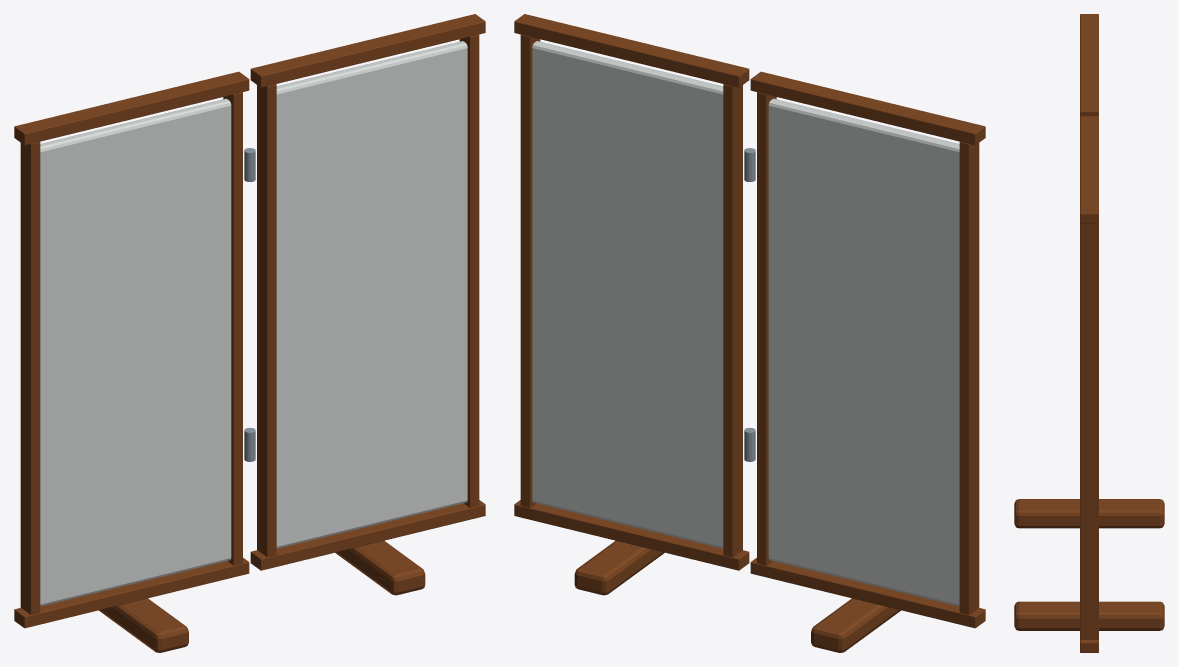
The picture shows the model from 3 angles, left to right: view 1: azimuth 30°, elevation 25°; view 2: azimuth 150°, elevation 25°; view 3: azimuth 270°, elevation 25°; orthographic projection. The views are drawn at different scales.
Parts seen in each view (by area): view 1: PANEL_Fabric.001, PANEL_Fabric, FRAME_Stile, FRAME_Stile.002, FRAME_Stile.003, FRAME_Stile.001, FRAME_Rail.003, FRAME_Rail.001, FRAME_Rail.002, FRAME_Rail, FOOT.001, FOOT; view 2: PANEL_Fabric.001, PANEL_Fabric, FRAME_Stile, FRAME_Stile.002, FRAME_Stile.003, FRAME_Stile.001, FRAME_Rail.003, FRAME_Rail.001, FRAME_Rail.002, FRAME_Rail, FOOT.001, FOOT; view 3: FRAME_Stile.003, FOOT, FOOT.001, FRAME_Rail.003, FRAME_Rail.001, FRAME_Rail.002.
Boxes of the visible parts, box(x1,y1,x2,y2) form: PANEL_Fabric.001: box(276, 41, 467, 548); PANEL_Fabric: box(40, 98, 231, 606); FRAME_Stile: box(20, 141, 40, 614); FRAME_Stile.002: box(257, 84, 276, 557); FRAME_Stile.003: box(459, 34, 479, 507); FRAME_Stile.001: box(223, 92, 242, 565); FRAME_Rail.003: box(250, 14, 485, 87); FRAME_Rail.001: box(14, 71, 249, 145); FRAME_Rail.002: box(250, 500, 485, 570); FRAME_Rail: box(14, 558, 249, 628); FOOT.001: box(335, 540, 425, 595); FOOT: box(99, 598, 188, 652); PANEL_Fabric.001: box(532, 41, 723, 548); PANEL_Fabric: box(768, 98, 959, 606); FRAME_Stile: box(959, 141, 979, 614); FRAME_Stile.002: box(723, 84, 742, 557); FRAME_Stile.003: box(520, 34, 540, 507); FRAME_Stile.001: box(757, 92, 776, 565); FRAME_Rail.003: box(514, 14, 749, 87); FRAME_Rail.001: box(750, 71, 985, 145); FRAME_Rail.002: box(514, 500, 749, 570); FRAME_Rail: box(750, 558, 985, 628); FOOT.001: box(574, 540, 664, 595); FOOT: box(811, 598, 900, 652); FRAME_Stile.003: box(1080, 224, 1098, 639); FOOT: box(1014, 499, 1164, 528); FOOT.001: box(1014, 601, 1164, 630); FRAME_Rail.003: box(1080, 116, 1098, 223); FRAME_Rail.001: box(1080, 14, 1098, 116); FRAME_Rail.002: box(1080, 639, 1098, 652).
Size of the model in its own units: 1.64 by 1.76 by 0.52.
